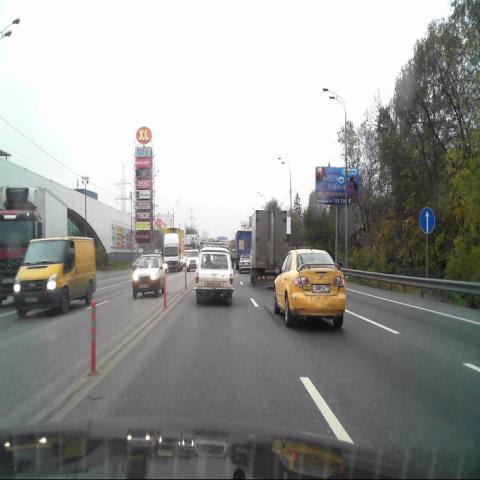4_1_1: (419, 207, 435, 234)
